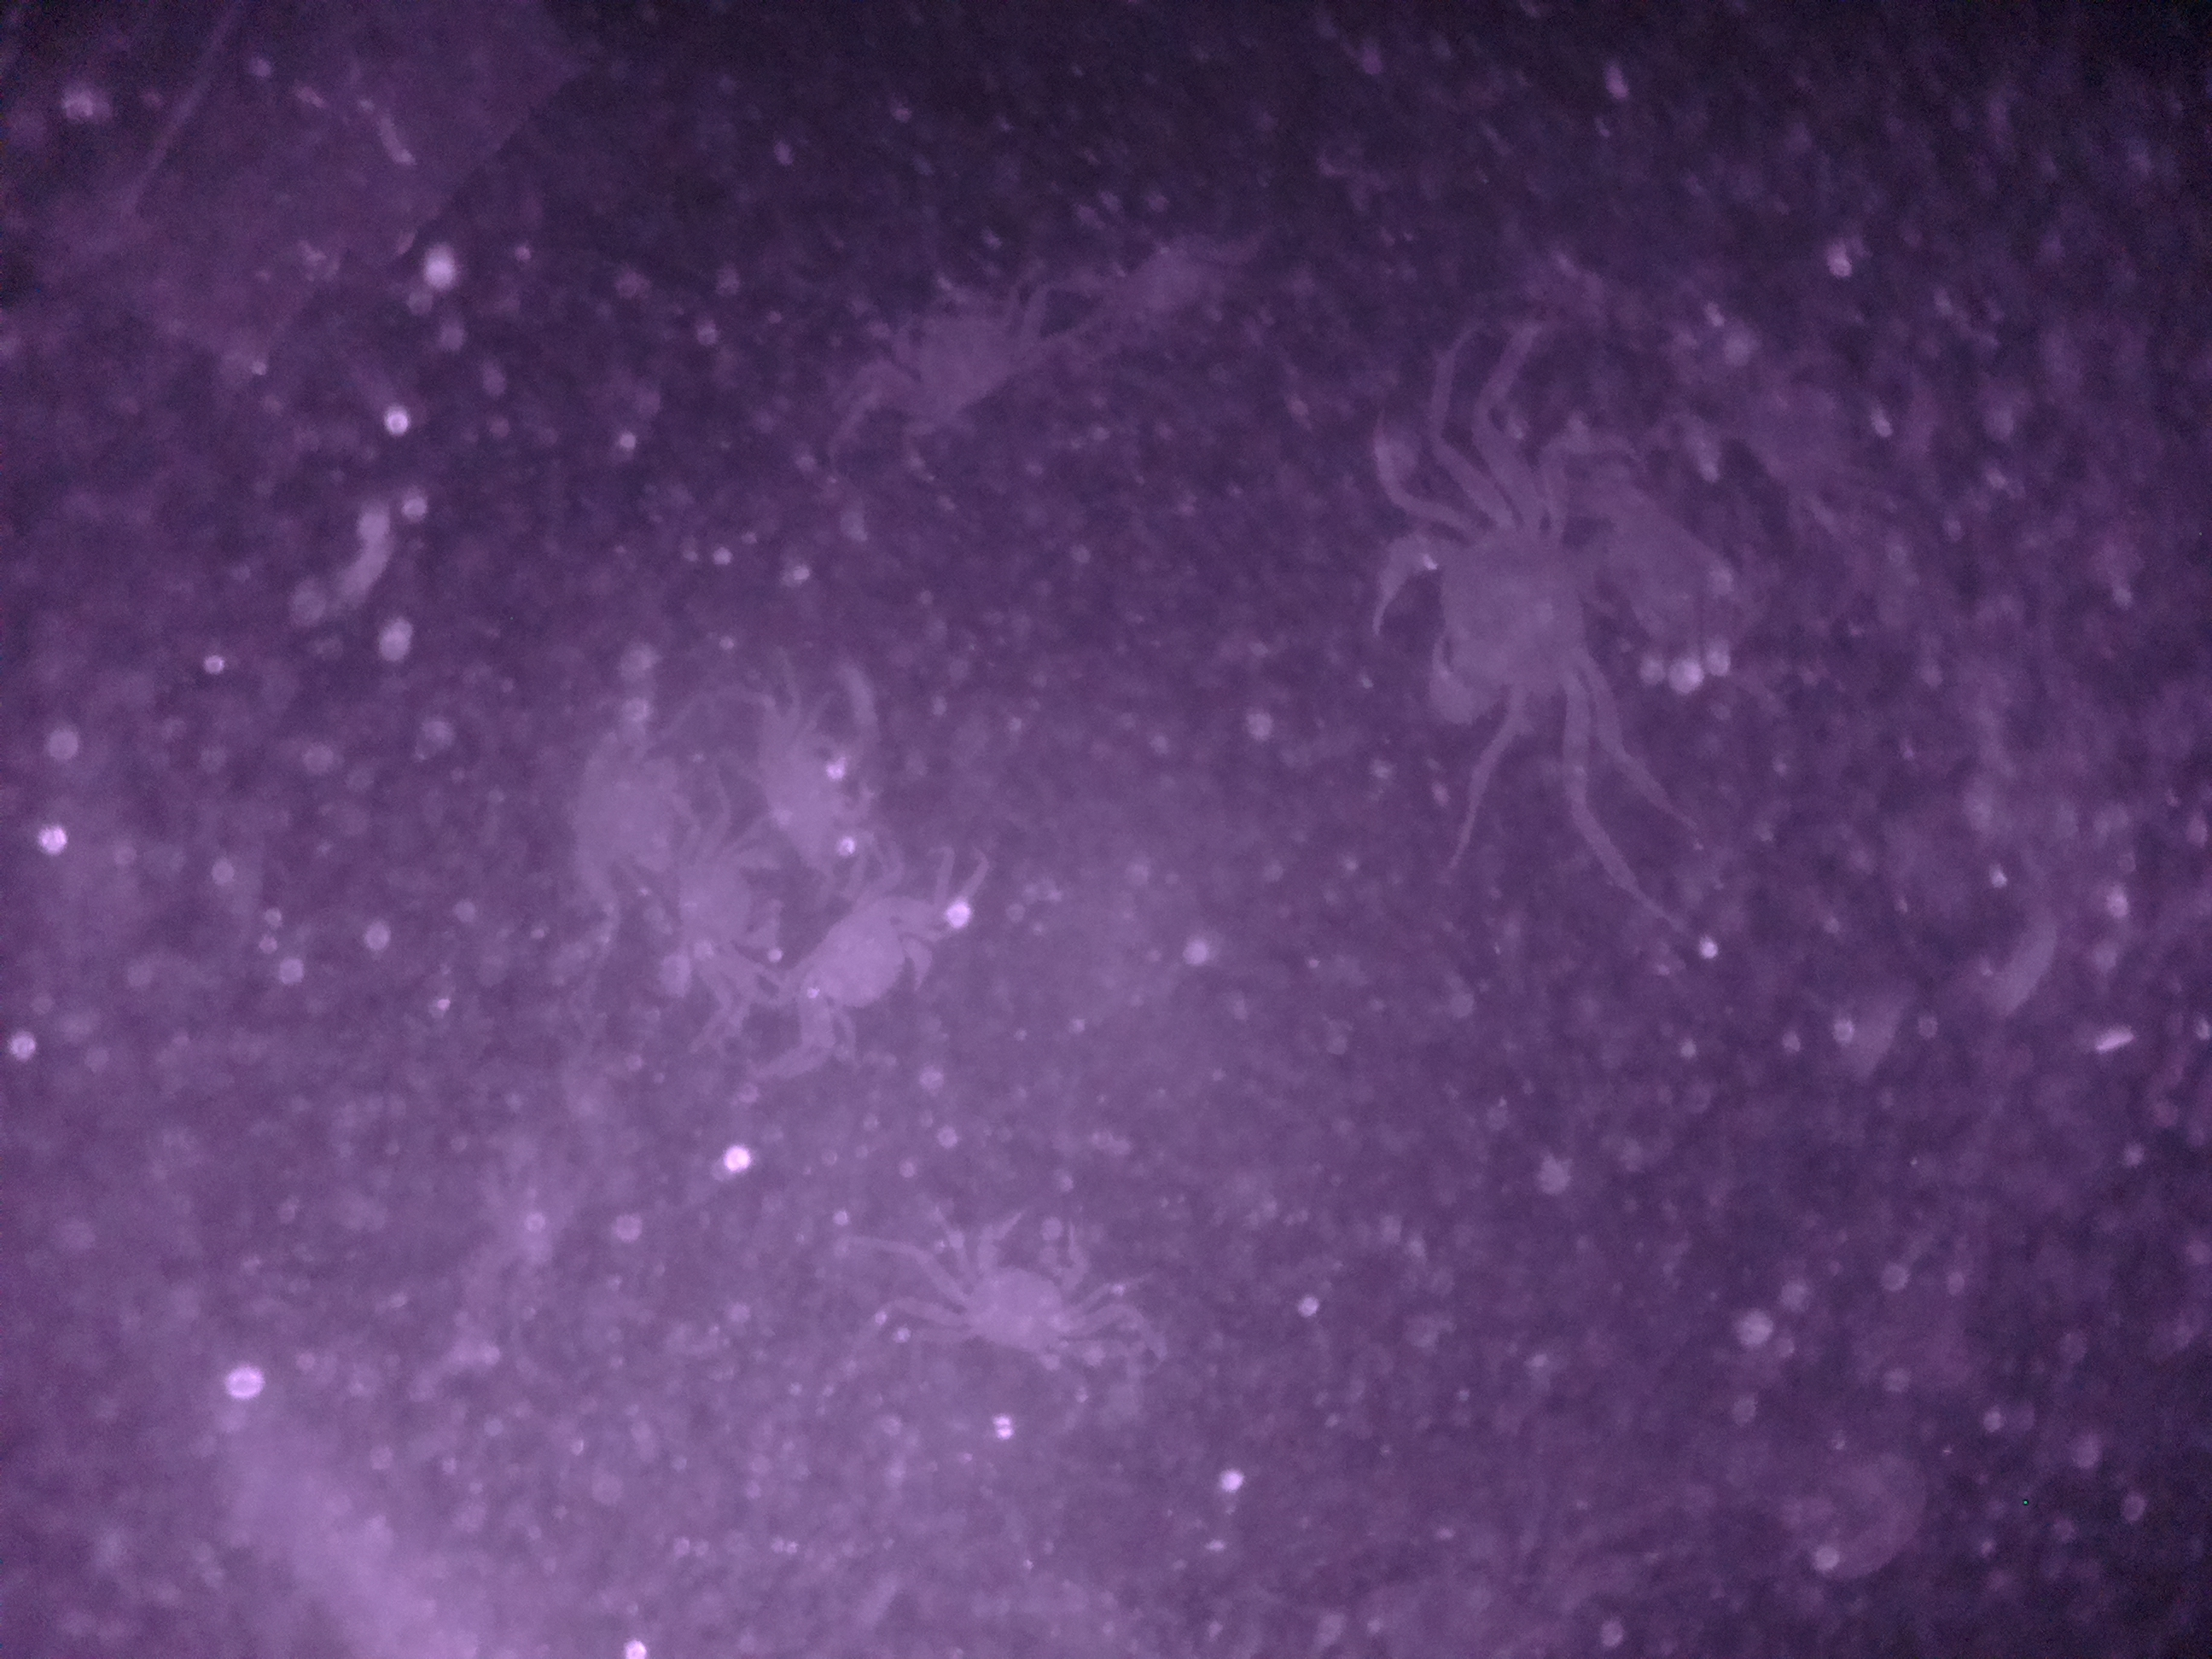Crab: (1360, 465, 1629, 775), (892, 1194, 1143, 1403), (862, 249, 1071, 471), (763, 850, 965, 1075)
